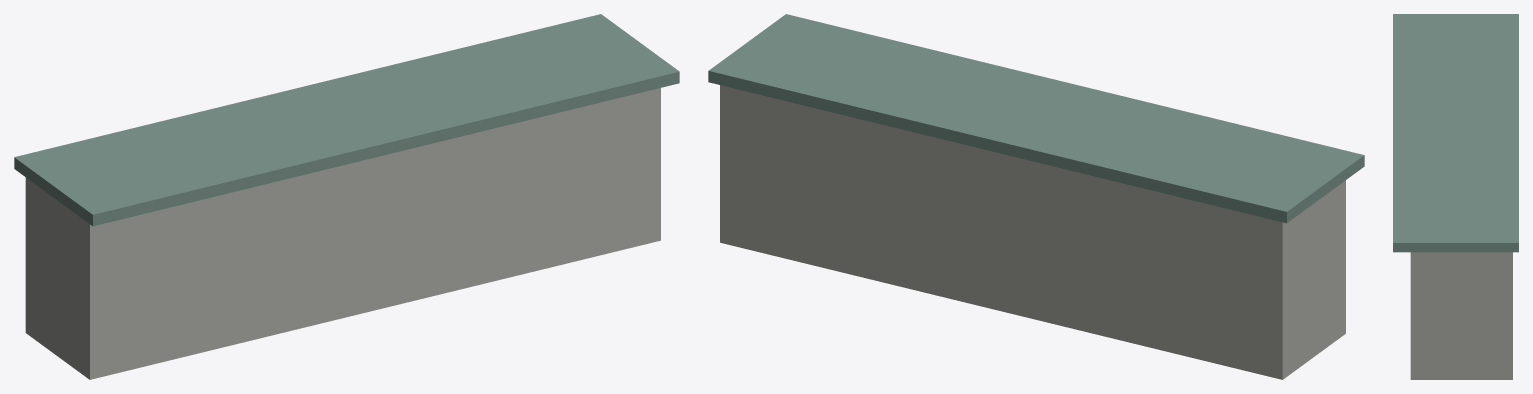
File: mov_b9b7e31fd8.gltf
3 renders of one model, left to right at view 1: azimuth 30°, elevation 25°; view 2: azimuth 150°, elevation 25°; view 3: azimuth 270°, elevation 25°, orthographic. The views are drawn at different scales.
Visible parts, largest first — view 1: mov_b9b7e31fd8; view 2: mov_b9b7e31fd8; view 3: mov_b9b7e31fd8.
Boxes of the visible parts, x1,y1,x2,y2 form: mov_b9b7e31fd8: [14, 14, 679, 379]; mov_b9b7e31fd8: [708, 14, 1364, 379]; mov_b9b7e31fd8: [1393, 14, 1518, 379].
Size of the model in its own units: 3.7 by 1.05 by 0.86.
